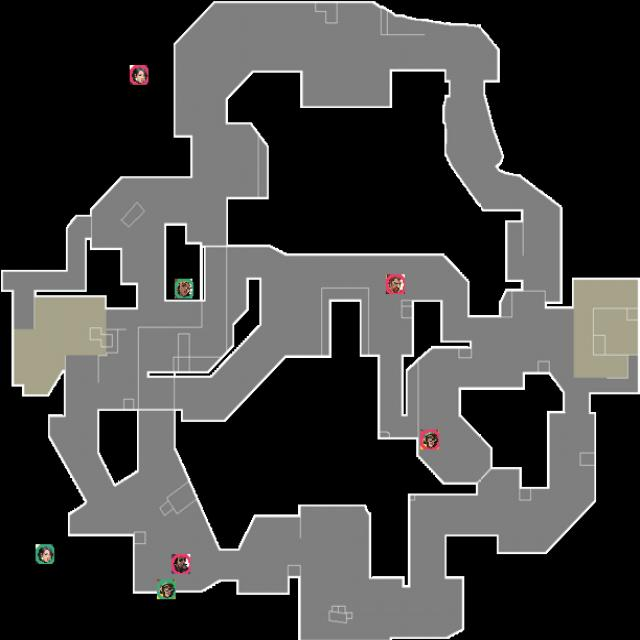atk_breach: (386, 274, 405, 294)
atk_harbor: (172, 554, 190, 574)
atk_killjoy: (420, 430, 440, 450)
atk_sage: (130, 65, 148, 85)
def_killjoy: (157, 580, 176, 600)
def_raze: (174, 278, 193, 298)
def_sage: (36, 544, 54, 564)
